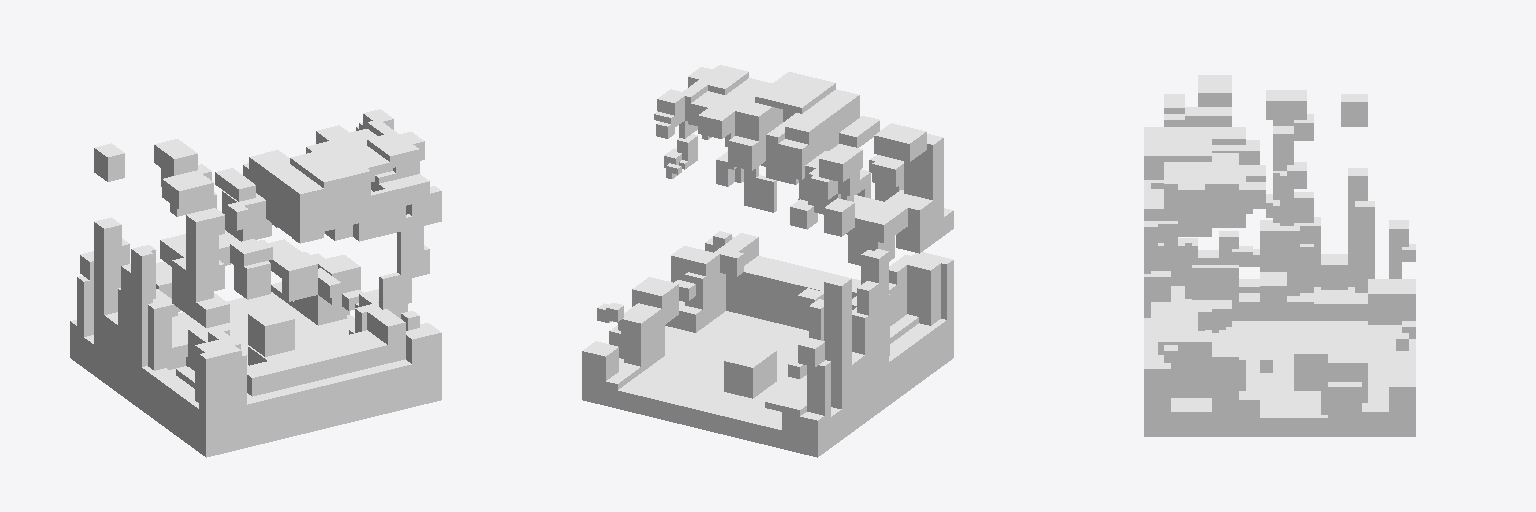
File: jin.obj
The picture shows the model from 3 angles: view 1: azimuth 30°, elevation 25°; view 2: azimuth 150°, elevation 25°; view 3: azimuth 270°, elevation 25°; orthographic projection.
Visible parts, largest first — view 1: jin; view 2: jin; view 3: jin.
Part boxes in pixels (bbox=[...]): jin: bbox=[70, 109, 441, 457]; jin: bbox=[582, 65, 953, 457]; jin: bbox=[1144, 75, 1415, 436].
Size of the model in its own units: 40 by 40 by 40.